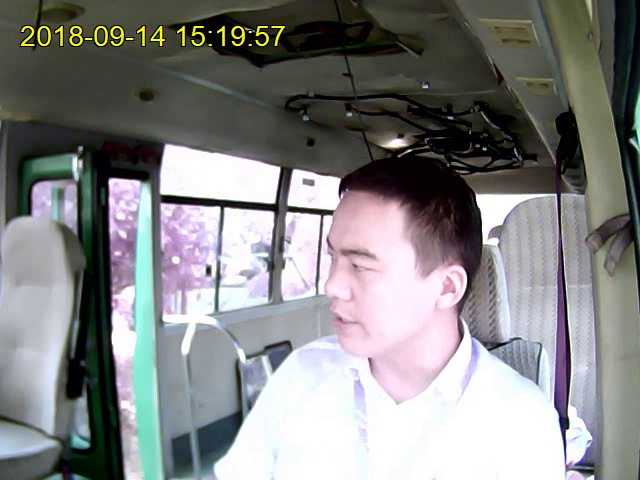closed_mouth: (328, 307, 357, 330)
